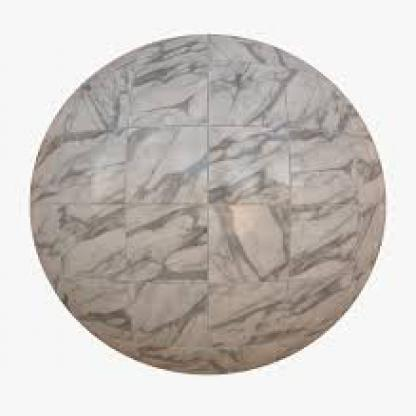Metamorphic_Marble: (17, 20, 395, 376)
